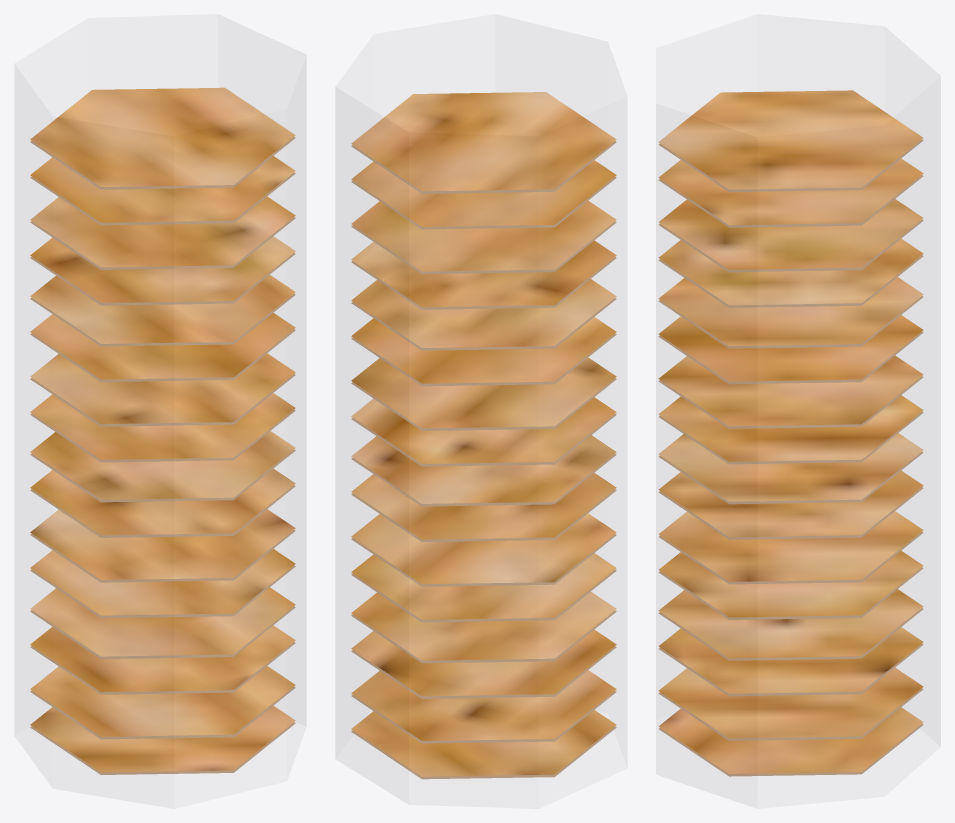
File: galletitas_sanas.fbx
3 renders of one model, left to right at view 1: azimuth 30°, elevation 25°; view 2: azimuth 150°, elevation 25°; view 3: azimuth 270°, elevation 25°, orthographic.
Parts seen in each view (by area): view 1: Galletitas; view 2: Galletitas; view 3: Galletitas.
Boxes of the visible parts, x1=… form: Galletitas: x1=15, y1=14, x2=305, y2=808; Galletitas: x1=336, y1=14, x2=626, y2=808; Galletitas: x1=656, y1=14, x2=940, y2=808.
Bounding box in the file's own units: 180 × 457 × 176.
2 materials, 1 textured.
